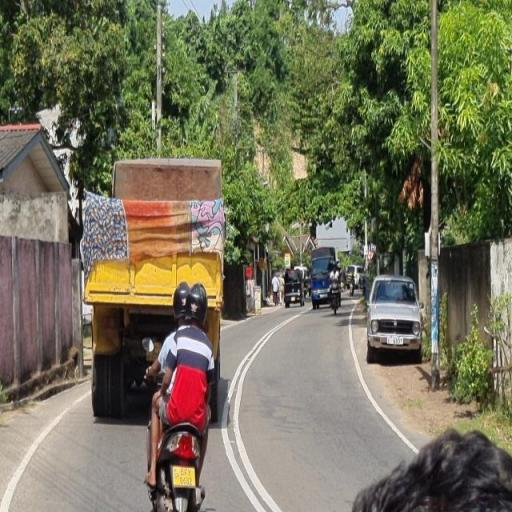double_white_line: (221, 320, 282, 512)
